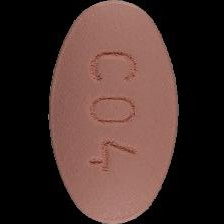68180-480: (0, 0, 224, 224)
